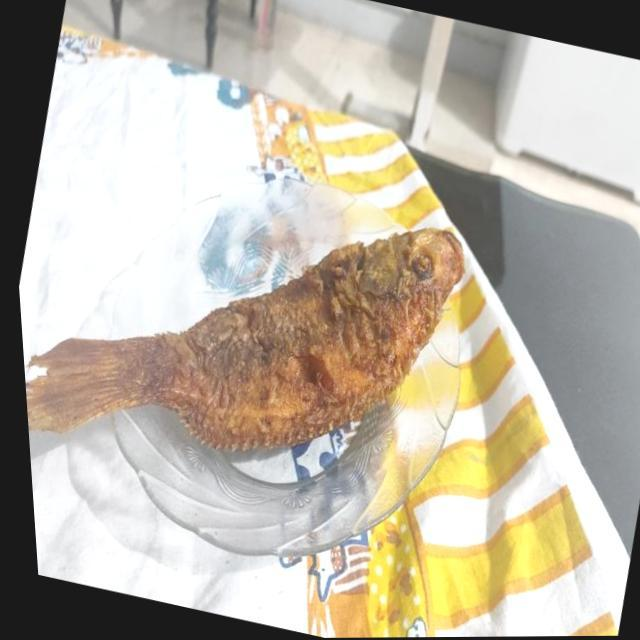ikan_mujair: (26, 228, 463, 449)
